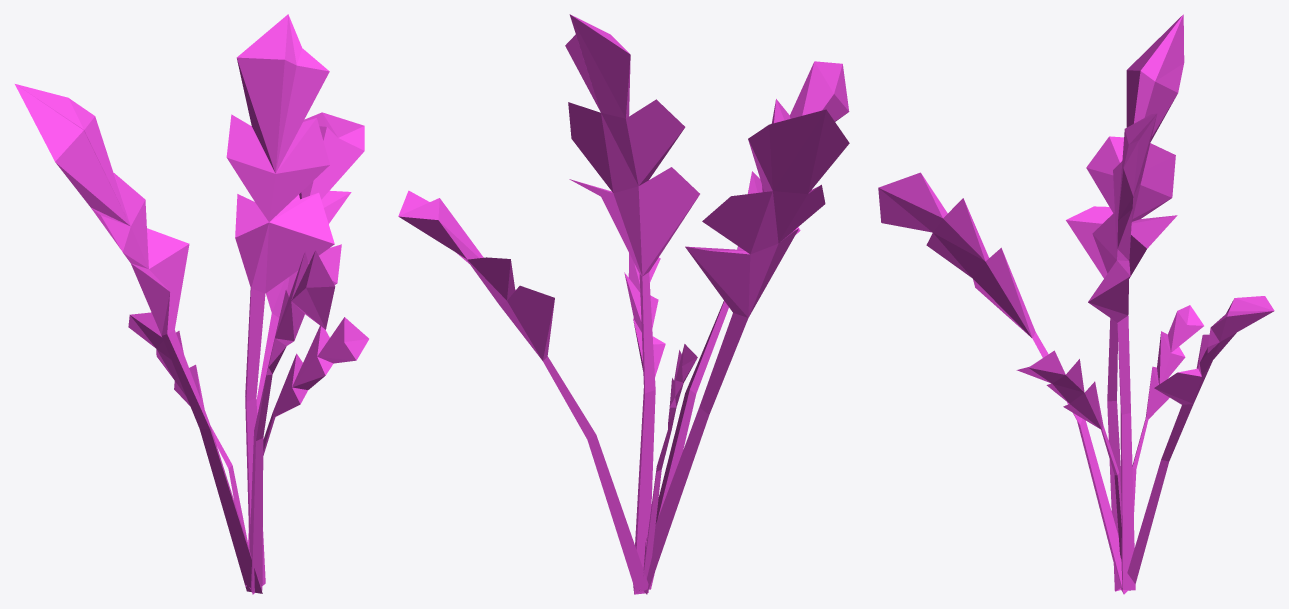
File: SM_Parsnip_Plant_Young.fbx
The picture shows the model from 3 angles, left to right: view 1: azimuth 30°, elevation 25°; view 2: azimuth 150°, elevation 25°; view 3: azimuth 270°, elevation 25°; orthographic projection. The views are drawn at different scales.
Visible parts, largest first — view 1: SM_Parsnip_Plant_Young; view 2: SM_Parsnip_Plant_Young; view 3: SM_Parsnip_Plant_Young.
Part boxes in pixels (bbox=[...]): SM_Parsnip_Plant_Young: bbox=[15, 14, 368, 594]; SM_Parsnip_Plant_Young: bbox=[398, 14, 849, 594]; SM_Parsnip_Plant_Young: bbox=[878, 14, 1274, 594].
Size of the model in its own units: 0.3366 by 0.4752 by 0.3403.
